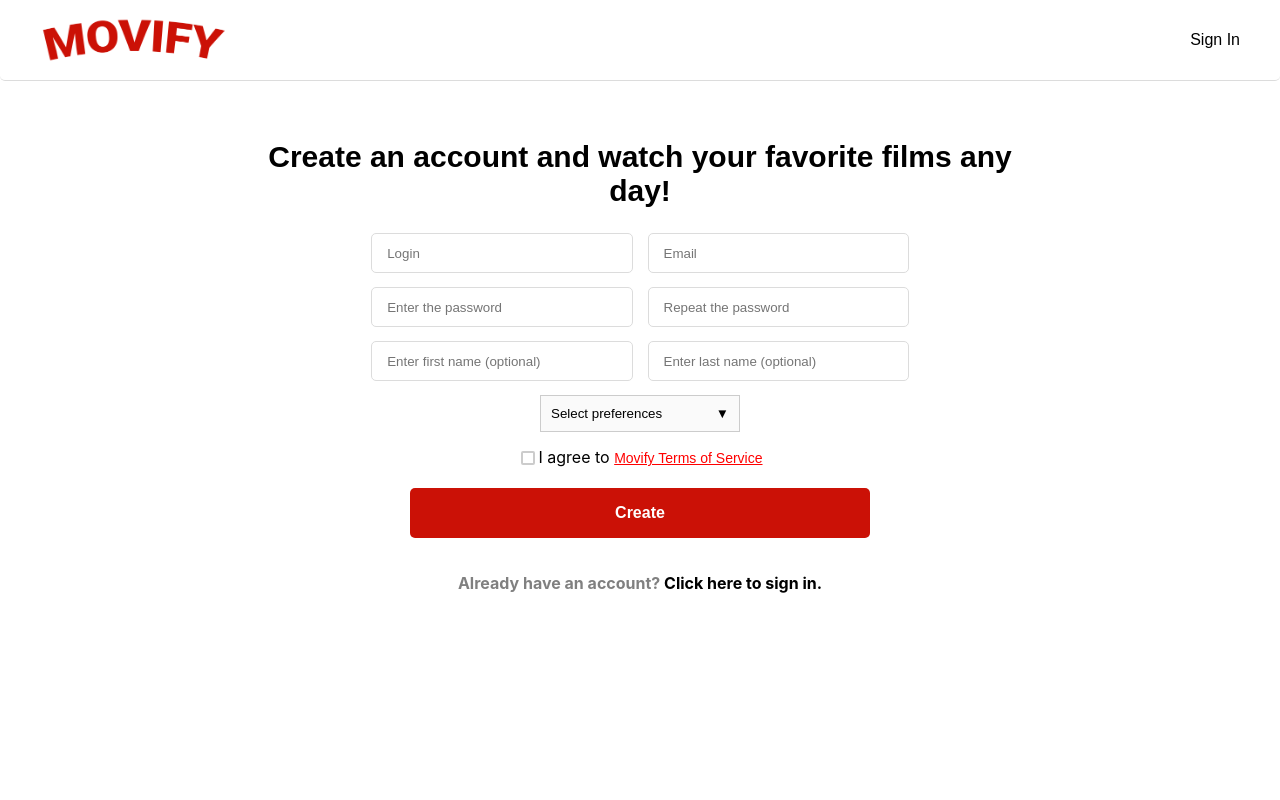
Test case: Register Component › shows error for already existing user (400)
Type "existinguser" into the field with placeholder "Login" at [502, 253], box [371,233,632,273]
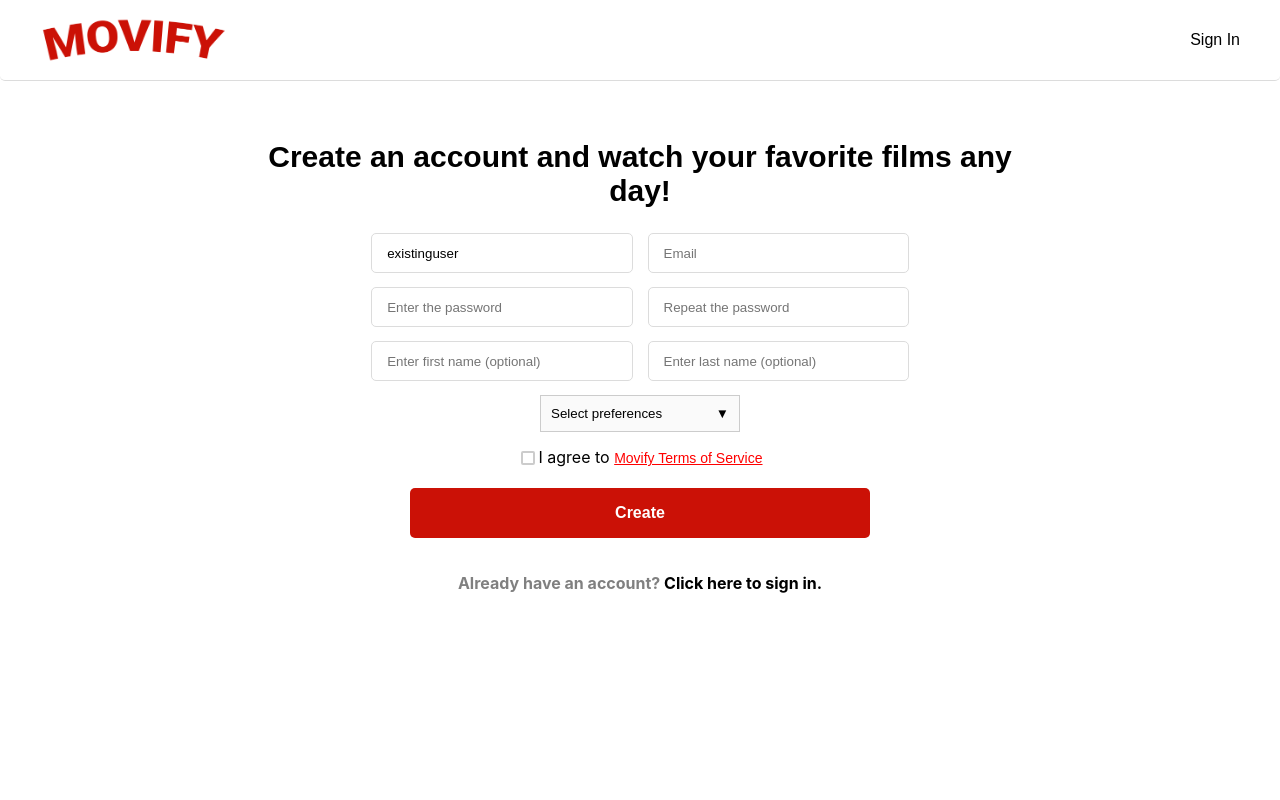
Type "existing@example.com" into the field with placeholder "Email" at [778, 253], box [648,233,909,273]
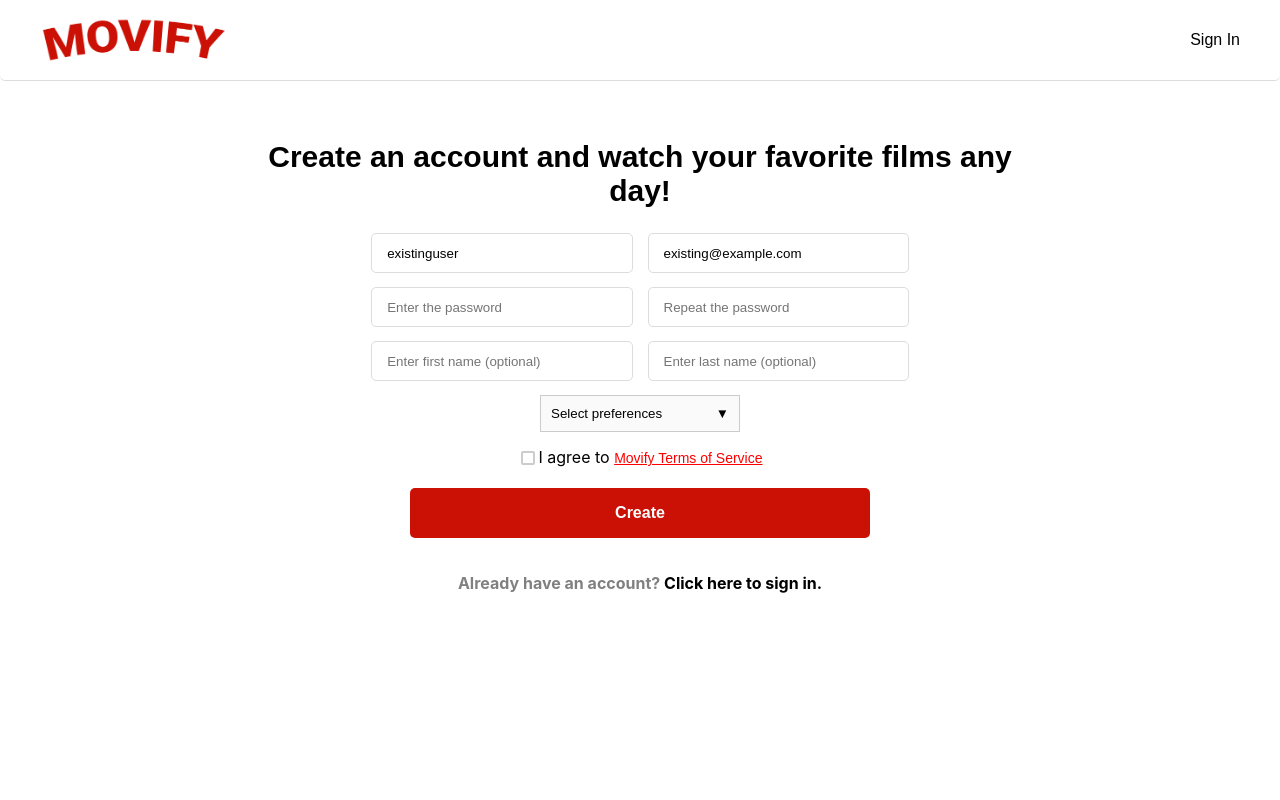
Type "Password1!" into the password field with placeholder "Enter the password" at [502, 307], box [371,287,632,327]
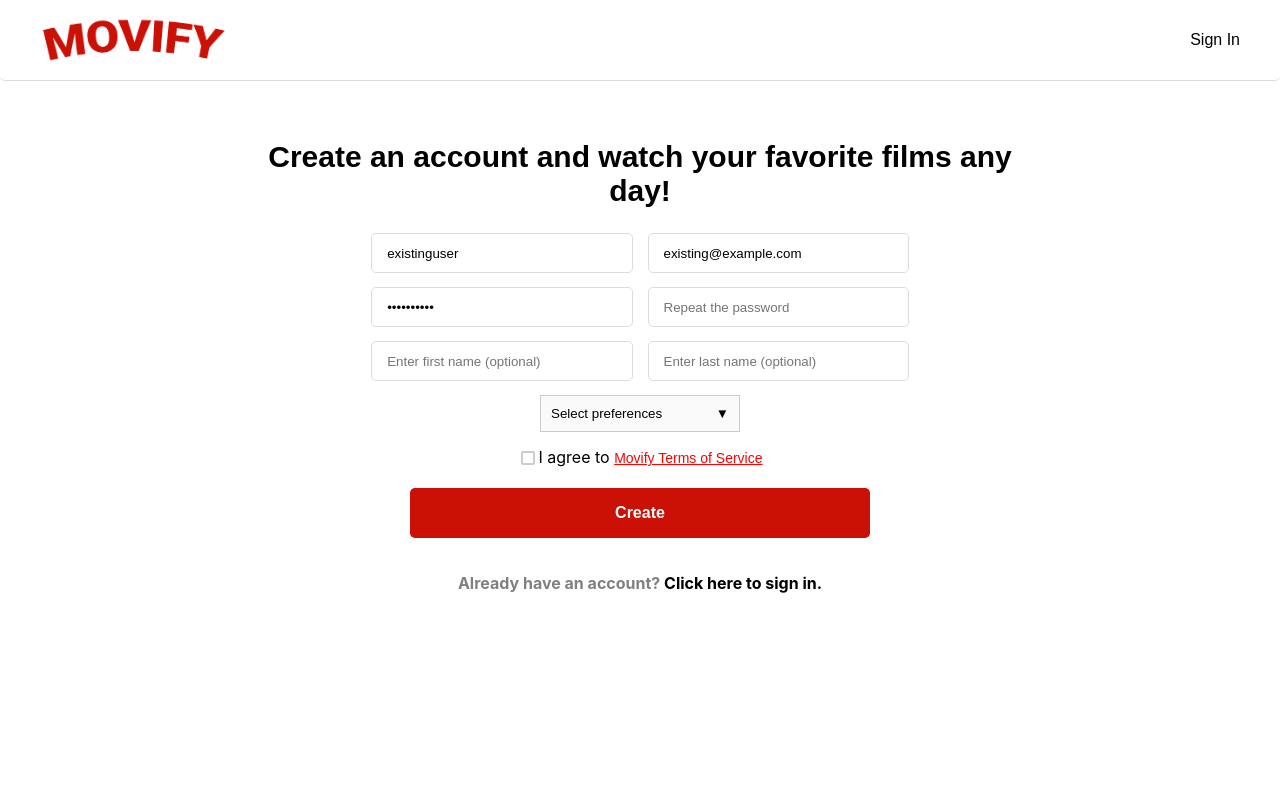
Type "Password1!" into the password field with placeholder "Repeat the password" at [778, 307], box [648,287,909,327]
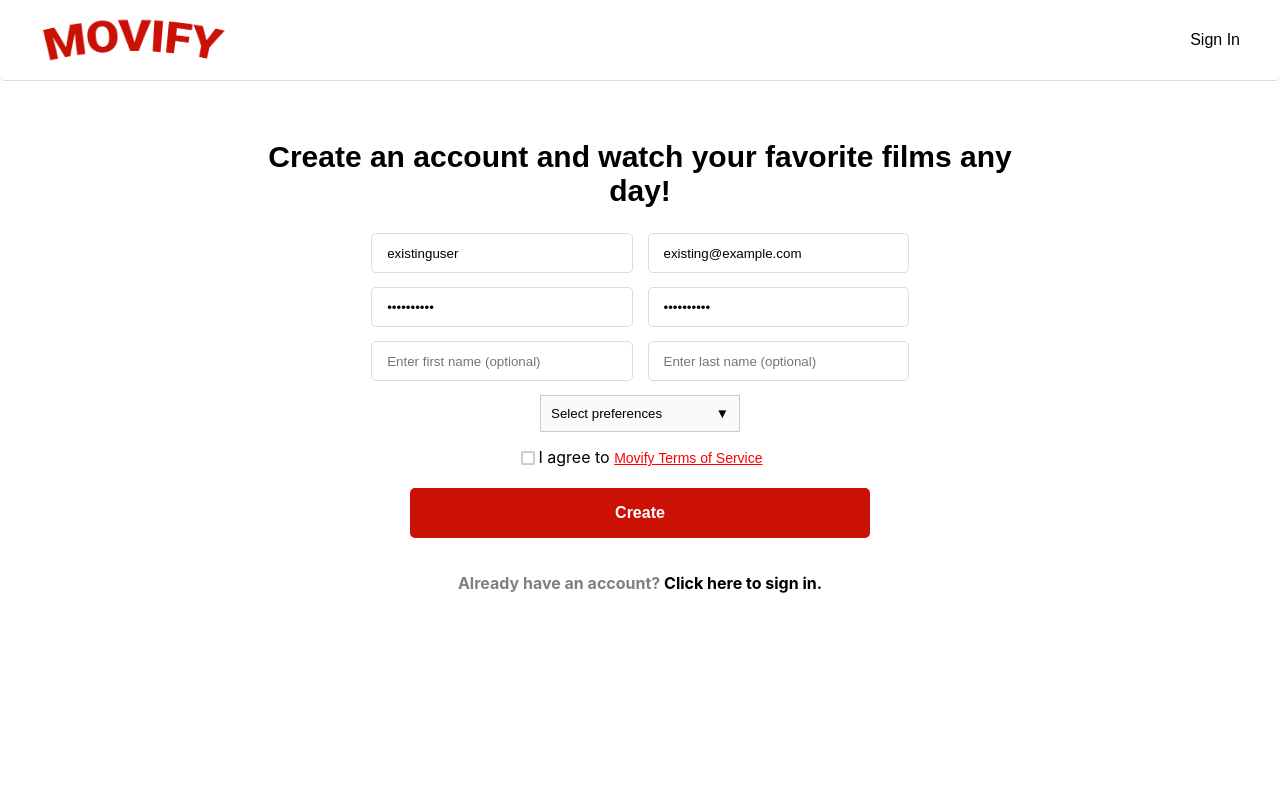
Click the checkbox labelled "I agree to" at [528, 458], box [522,451,536,465]
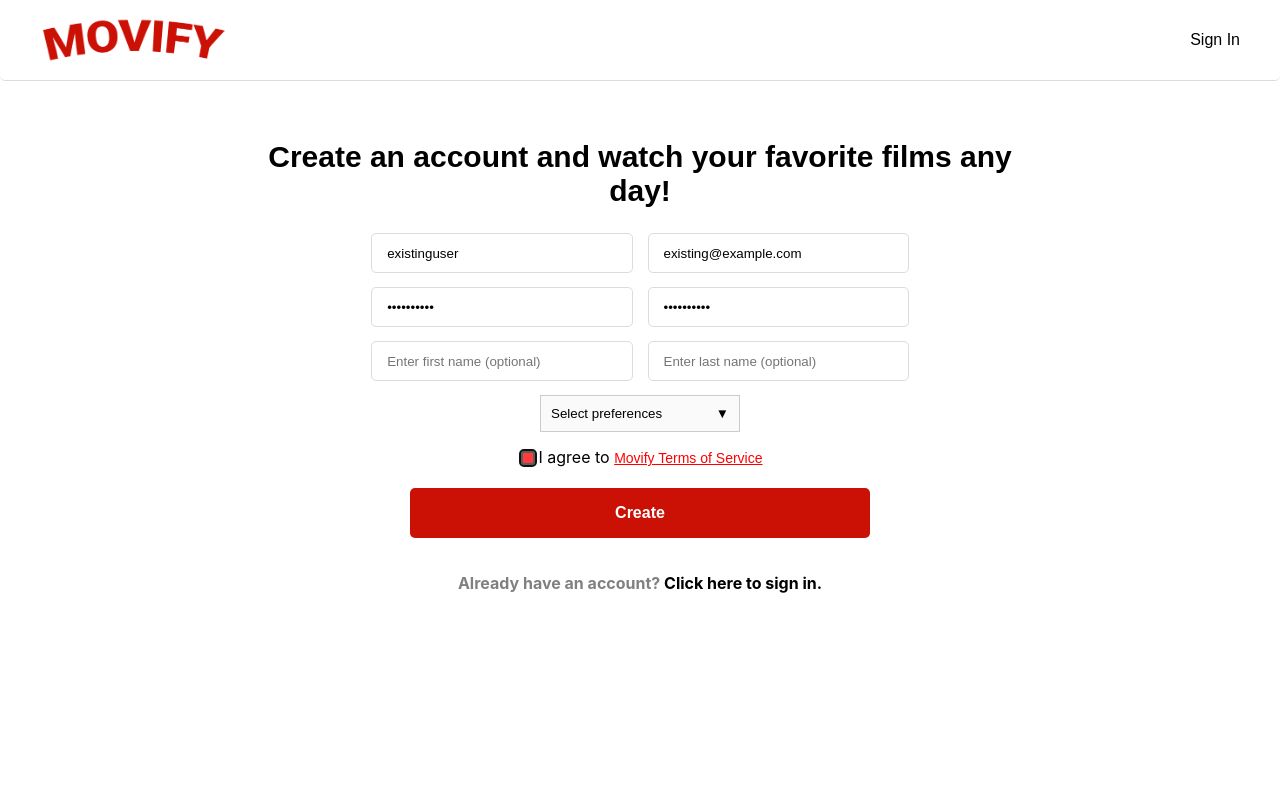
Click the button "Create" at [640, 513], box [410,488,870,538]
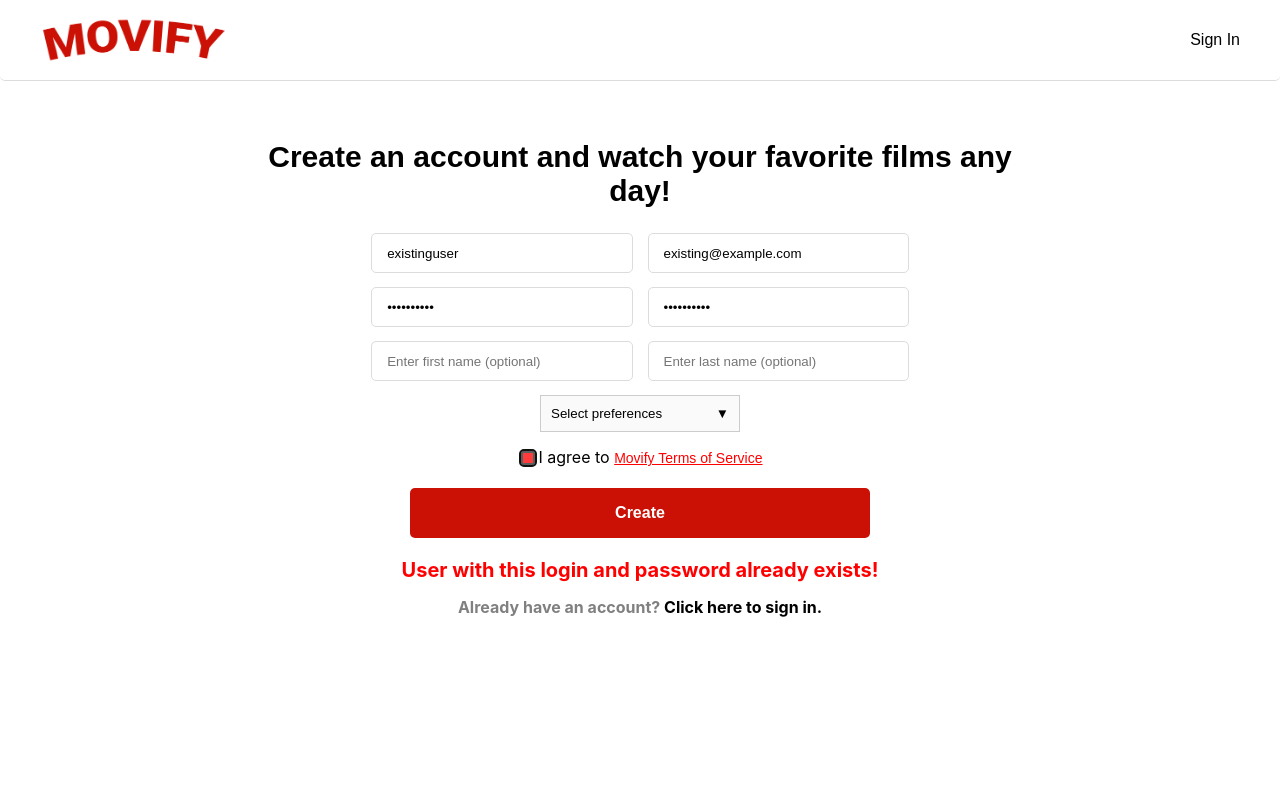
Now the text "User with this login and password already exists!" is shown, box [402,558,878,582]
